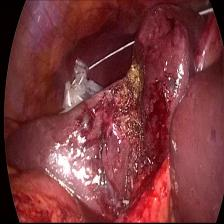Specimen Bag: (58, 35, 133, 114)
